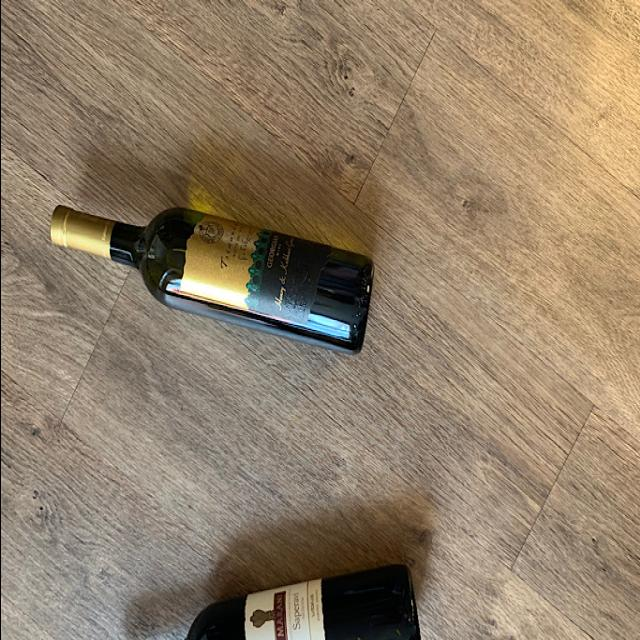litter: (48, 200, 375, 358), (184, 562, 419, 638)
